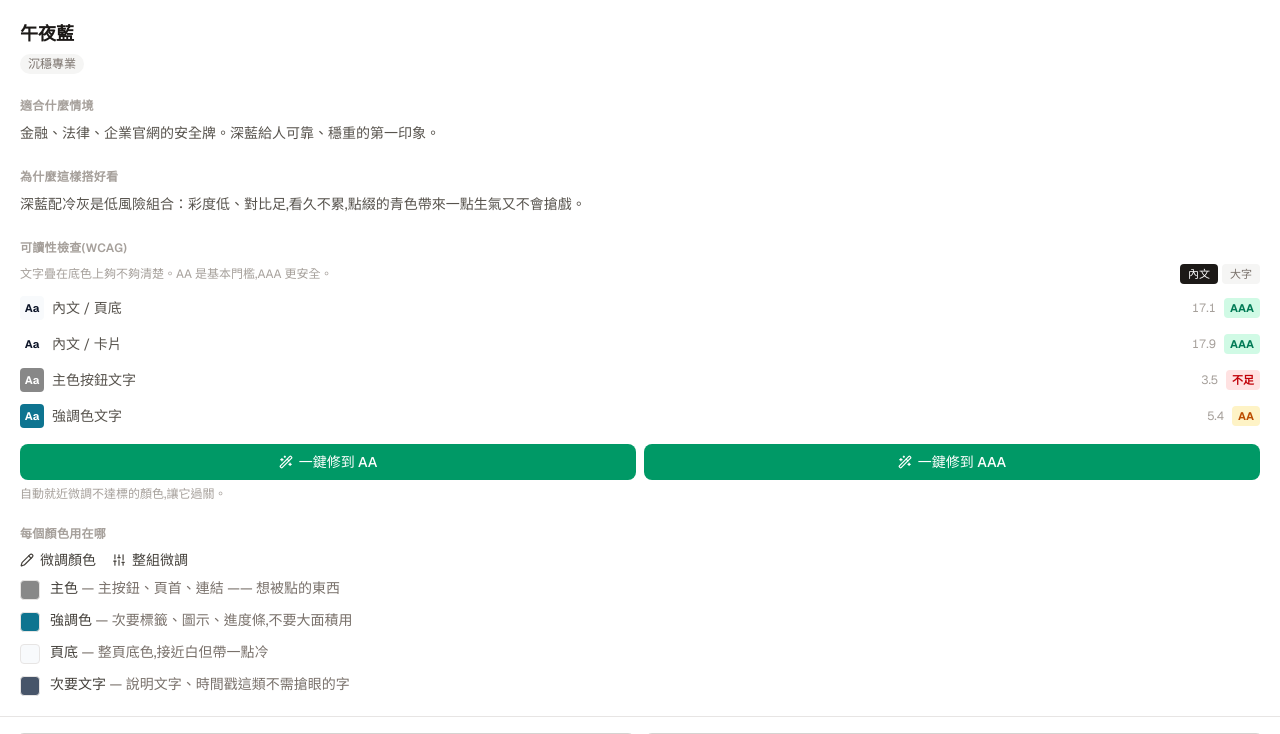
Test: InfoPanel › relaxes the WCAG verdict when switching to large text
The image size is (1280, 734).
Expected: the text "不足" is shown once, [1226,370,1260,390]
Step 1. Click the button "大字" → (1241, 274), box [1222,264,1260,284]
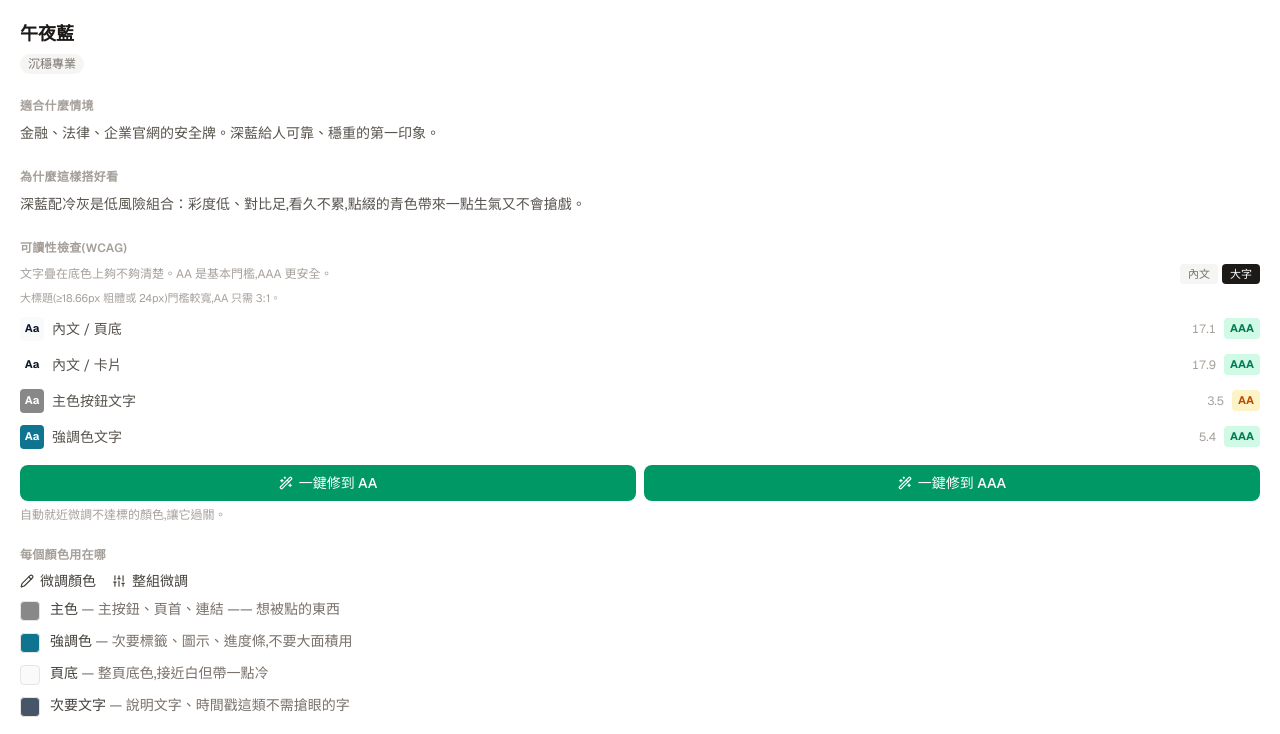
Expected: the text "不足" is gone
